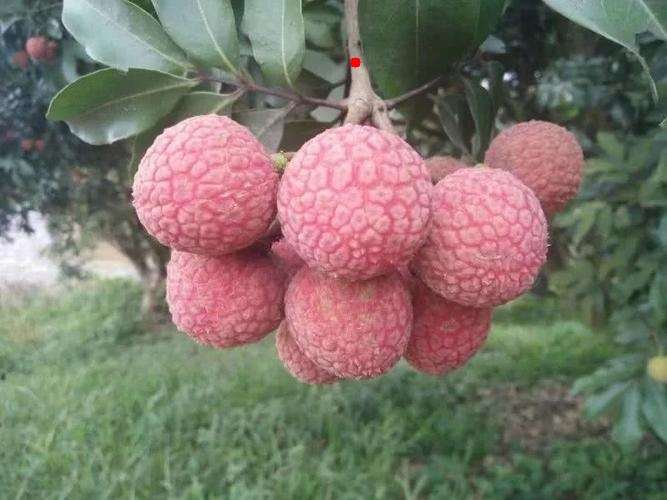litchi: (138, 118, 578, 384)
stem: (335, 0, 389, 123)
